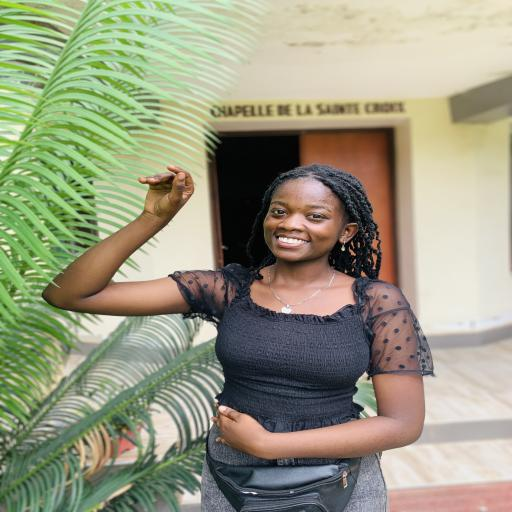LAURENE: (254, 160, 376, 275)
